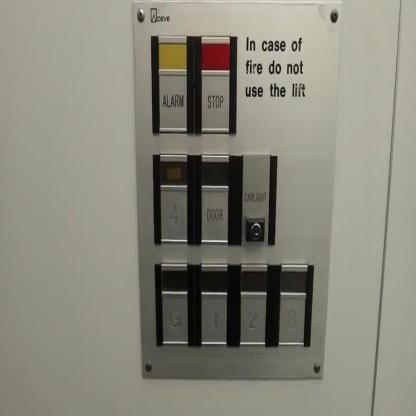1: (199, 287, 229, 348)
2: (238, 286, 268, 348)
3: (276, 286, 307, 351)
4: (158, 179, 189, 247)
G: (160, 286, 190, 348)
keyhole: (243, 214, 267, 244)
text: (157, 67, 188, 135), (199, 66, 230, 134), (199, 180, 230, 246)
